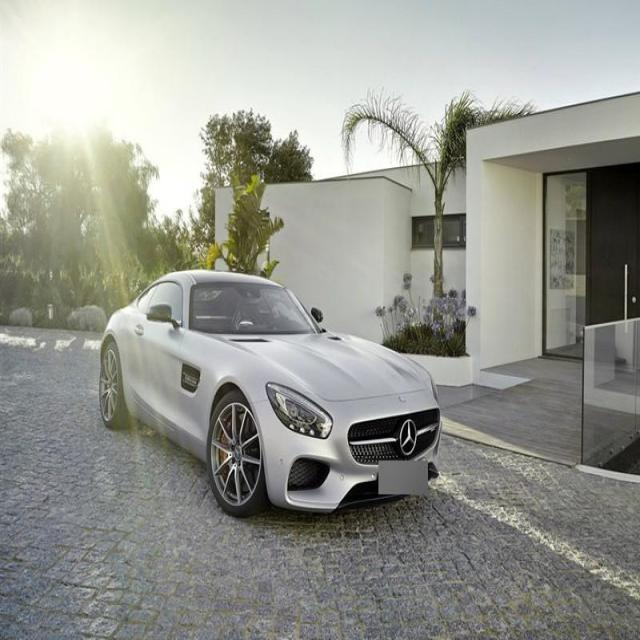front_bumper: (256, 420, 443, 513)
front_glass: (190, 282, 318, 334)
front_left_side_light: (429, 372, 438, 403)
front_left_side_mirror: (310, 306, 324, 324)
front_right_side_door: (125, 276, 192, 432)
front_right_side_light: (266, 382, 334, 440)
front_right_side_mirror: (146, 302, 180, 330)
wheel: (208, 392, 266, 517), (99, 343, 128, 429)
